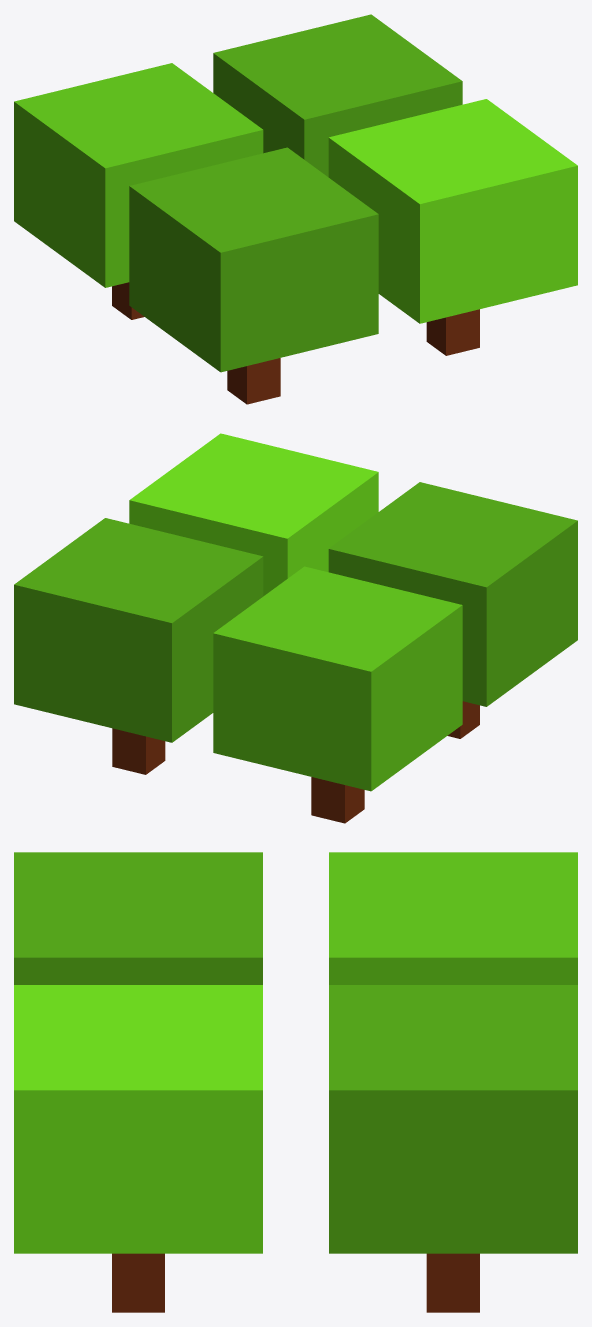
The model's file is Tree_Law_Green_01_Light.fbx.
The picture shows the model from 3 angles, top to bottom: view 1: azimuth 30°, elevation 25°; view 2: azimuth 150°, elevation 25°; view 3: azimuth 270°, elevation 25°; orthographic projection. The views are drawn at different scales.
Parts seen in each view (by area): view 1: Cube; view 2: Cube; view 3: Cube.
Boxes of the visible parts, x1,y1,x2,y2 form: Cube: (14, 14, 577, 404); Cube: (14, 433, 577, 823); Cube: (14, 852, 577, 1312).
Size of the model in its own units: 0.8965 by 0.4632 by 0.8981.
